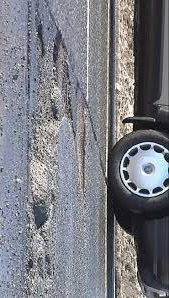pothole: (24, 9, 73, 296), (72, 92, 92, 196)
